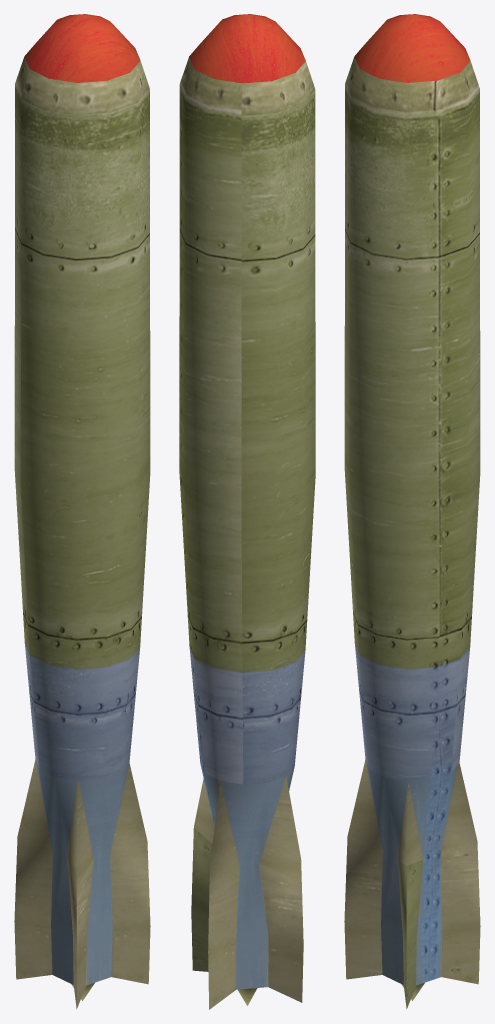
File: torpedo model.FBX
3 views of the same model, side by side, from view 1: azimuth 90°, elevation 25°; view 2: azimuth 150°, elevation 25°; view 3: azimuth 270°, elevation 25° (orthographic).
Parts seen in each view (by area): view 1: Cylinder001; view 2: Cylinder001; view 3: Cylinder001.
Part boxes in pixels (box(x1,y1,x2,y2)): Cylinder001: box(14, 14, 150, 1009); Cylinder001: box(179, 14, 315, 1009); Cylinder001: box(344, 14, 480, 1009).
Size of the model in its own units: 1.85 by 14.78 by 1.85.
1 material, 1 textured.
